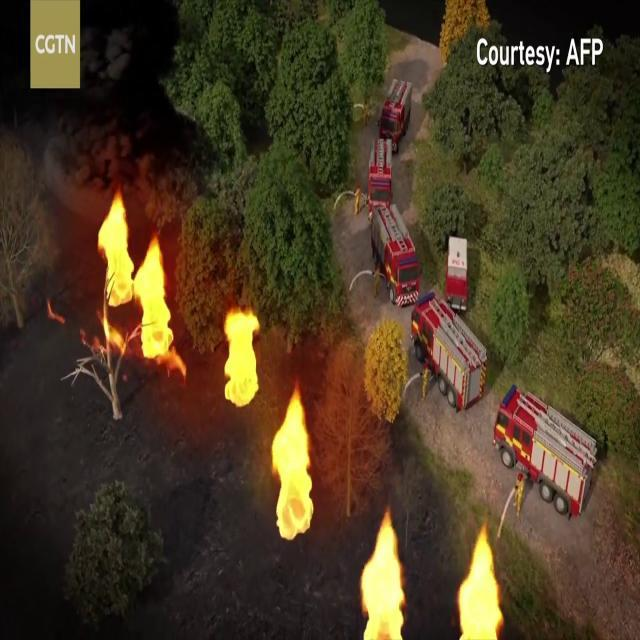Fire: (92, 186, 178, 375), (267, 378, 317, 540), (356, 502, 409, 638), (454, 519, 506, 637), (220, 298, 262, 408)
